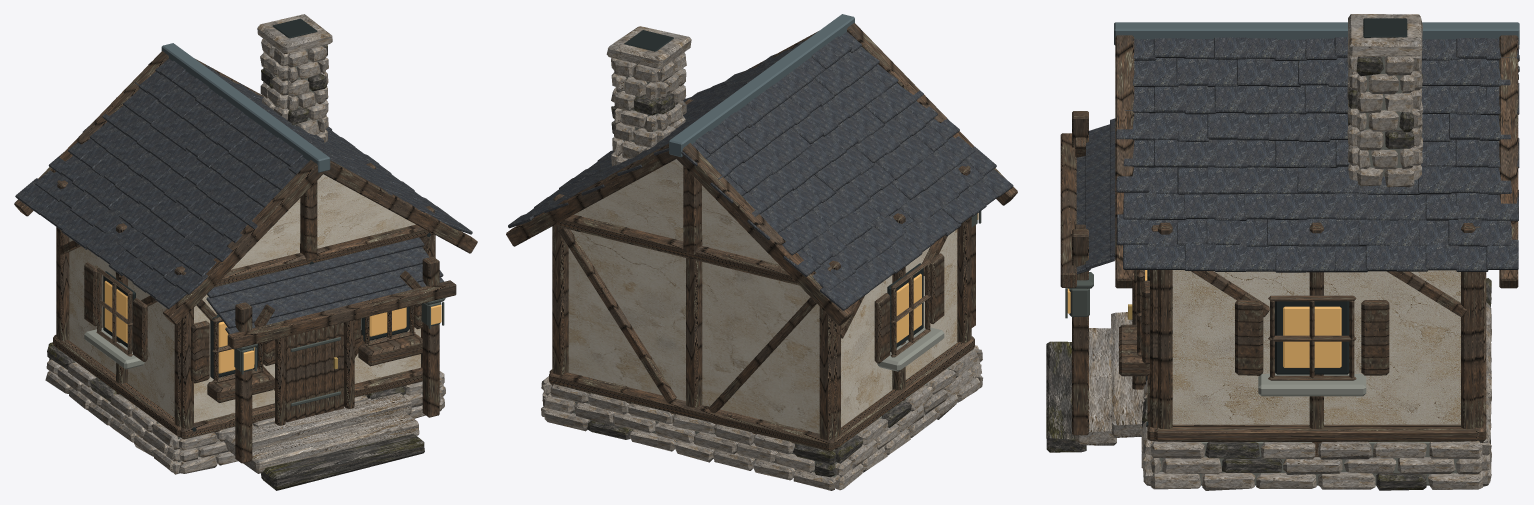
The model's file is watchkeeper-cottage-v002.glb.
3 renders of one model, left to right at view 1: azimuth 30°, elevation 25°; view 2: azimuth 150°, elevation 25°; view 3: azimuth 270°, elevation 25°, orthographic. The views are drawn at different scales.
Parts seen in each view (by area): view 1: Side wall oak post.006, Plaster gable.002, Overlapping slate shingle.236, Overlapping slate shingle.255, Overlapping slate shingle.235, Overlapping slate shingle.234, Hand set stone.189, Overlapping slate shingle.241, Hand set stone.195, Porch slate.055, Worn stone stair.003, Overlapping slate shingle.238 (+9 smaller); view 2: Plaster gable.002, Side wall oak post.006, Overlapping slate shingle.236, Overlapping slate shingle.255, Overlapping slate shingle.235, Overlapping slate shingle.241, Overlapping slate shingle.234, Porch slate.055, Hand set stone.178, Hand set stone.175, Overlapping slate shingle.238, Hand set stone.195 (+8 smaller); view 3: Side wall oak post.006, Plaster gable.002, Overlapping slate shingle.236, Overlapping slate shingle.234, Overlapping slate shingle.241, Overlapping slate shingle.235, Overlapping slate shingle.255, Hand set stone.189, Porch slate.055, Worn stone stair.003, Overlapping slate shingle.238, Roof ridge cap.001 (+10 smaller).
Boxes of the visible parts, bbox=[...] form: Side wall oak post.006: bbox=[14, 51, 477, 463]; Plaster gable.002: bbox=[69, 174, 420, 422]; Overlapping slate shingle.236: bbox=[15, 59, 458, 314]; Overlapping slate shingle.255: bbox=[48, 70, 472, 333]; Overlapping slate shingle.235: bbox=[59, 60, 443, 305]; Overlapping slate shingle.234: bbox=[34, 79, 435, 328]; Hand set stone.189: bbox=[88, 14, 444, 455]; Overlapping slate shingle.241: bbox=[61, 64, 443, 305]; Hand set stone.195: bbox=[68, 38, 422, 473]; Porch slate.055: bbox=[28, 88, 414, 314]; Worn stone stair.003: bbox=[47, 44, 424, 490]; Overlapping slate shingle.238: bbox=[46, 71, 429, 323]; Plaster gable.002: bbox=[568, 159, 957, 433]; Side wall oak post.006: bbox=[506, 23, 1017, 451]; Overlapping slate shingle.236: bbox=[557, 40, 986, 310]; Overlapping slate shingle.255: bbox=[559, 53, 984, 281]; Overlapping slate shingle.235: bbox=[528, 36, 949, 270]; Overlapping slate shingle.241: bbox=[527, 32, 937, 273]; Overlapping slate shingle.234: bbox=[575, 45, 997, 291]; Porch slate.055: bbox=[508, 58, 1013, 300]; Hand set stone.178: bbox=[588, 52, 980, 490]; Hand set stone.175: bbox=[541, 59, 973, 480]; Overlapping slate shingle.238: bbox=[549, 46, 941, 281]; Hand set stone.195: bbox=[614, 61, 981, 472]; Side wall oak post.006: bbox=[1060, 35, 1518, 456]; Plaster gable.002: bbox=[1172, 270, 1460, 424]; Overlapping slate shingle.236: bbox=[1076, 37, 1518, 274]; Overlapping slate shingle.234: bbox=[1076, 38, 1518, 272]; Overlapping slate shingle.241: bbox=[1076, 38, 1519, 271]; Overlapping slate shingle.235: bbox=[1076, 38, 1511, 269]; Overlapping slate shingle.255: bbox=[1085, 37, 1519, 271]; Hand set stone.189: bbox=[1111, 14, 1491, 486]; Porch slate.055: bbox=[1076, 39, 1518, 272]; Worn stone stair.003: bbox=[1046, 56, 1491, 490]; Overlapping slate shingle.238: bbox=[1076, 39, 1519, 271]; Roof ridge cap.001: bbox=[1114, 22, 1519, 45].
Size of the model in its own units: 5.1 by 5.24 by 5.25.
23 materials, 16 textured.
